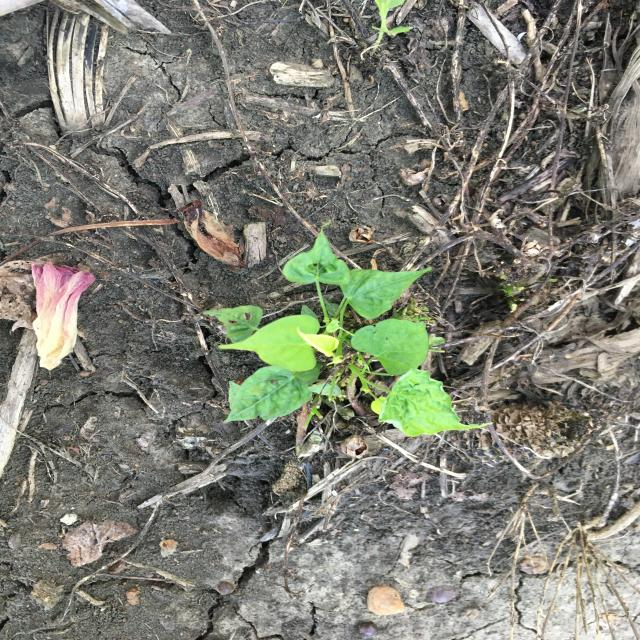MorningGlory: (200, 220, 497, 439)
